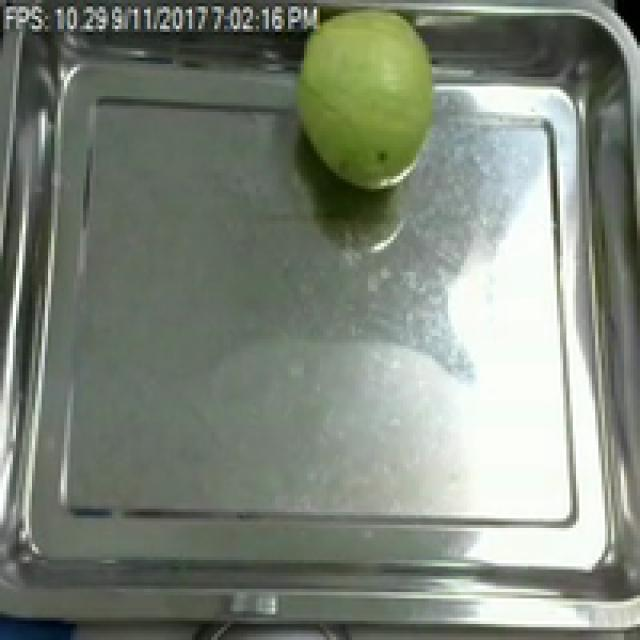Fruit: (282, 0, 444, 202)
